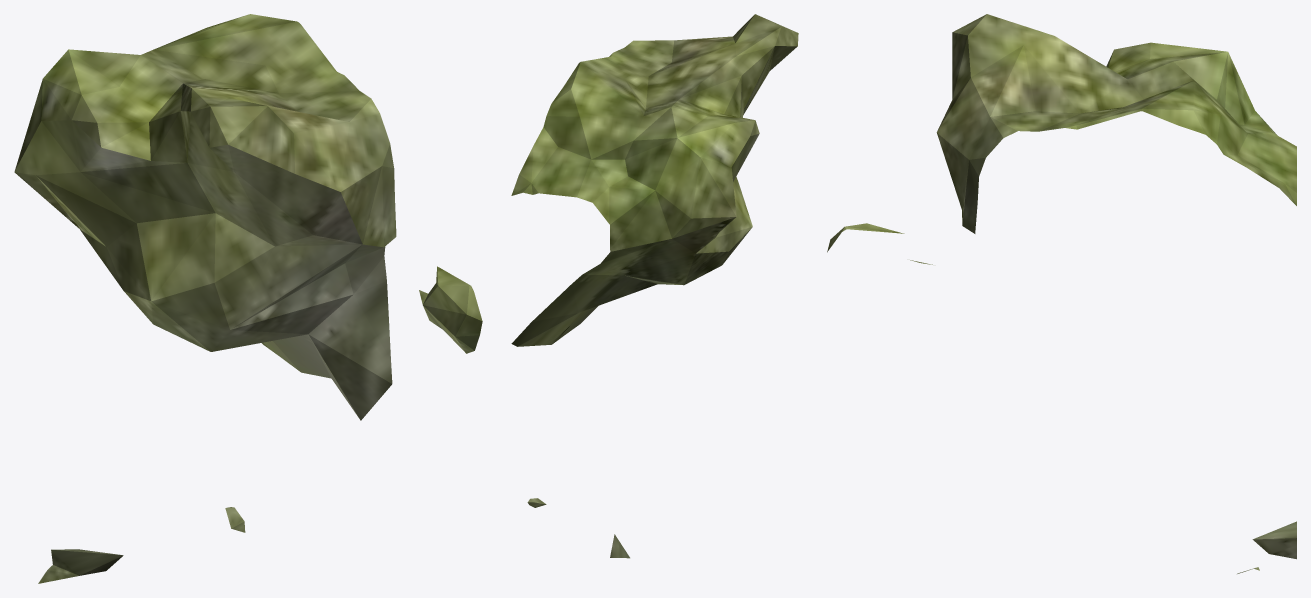
3 renders of one model, left to right at view 1: azimuth 30°, elevation 25°; view 2: azimuth 150°, elevation 25°; view 3: azimuth 270°, elevation 25°, orthographic. The views are drawn at different scales.
Size of the model in its own units: 0.5914 by 1.4 by 1.13.
Materials: 1 (1 with a texture image).
